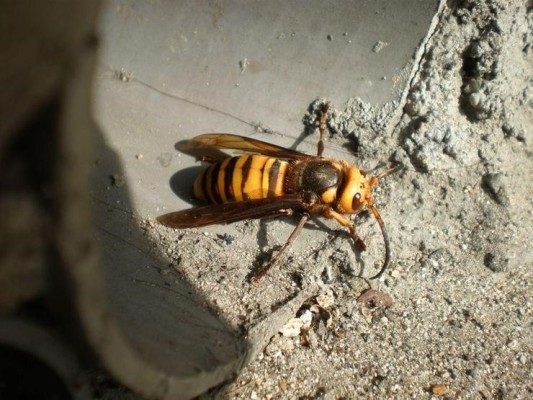asian_giant_hornet: (191, 141, 405, 231)
